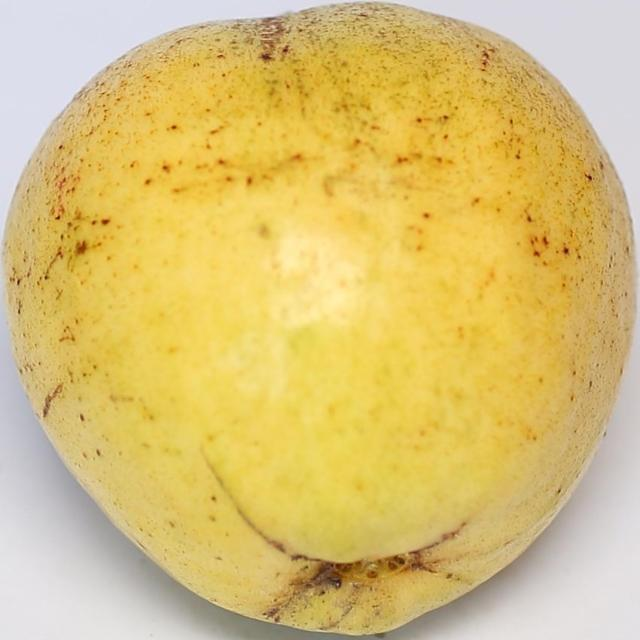Good_Guava: (1, 2, 637, 638)
